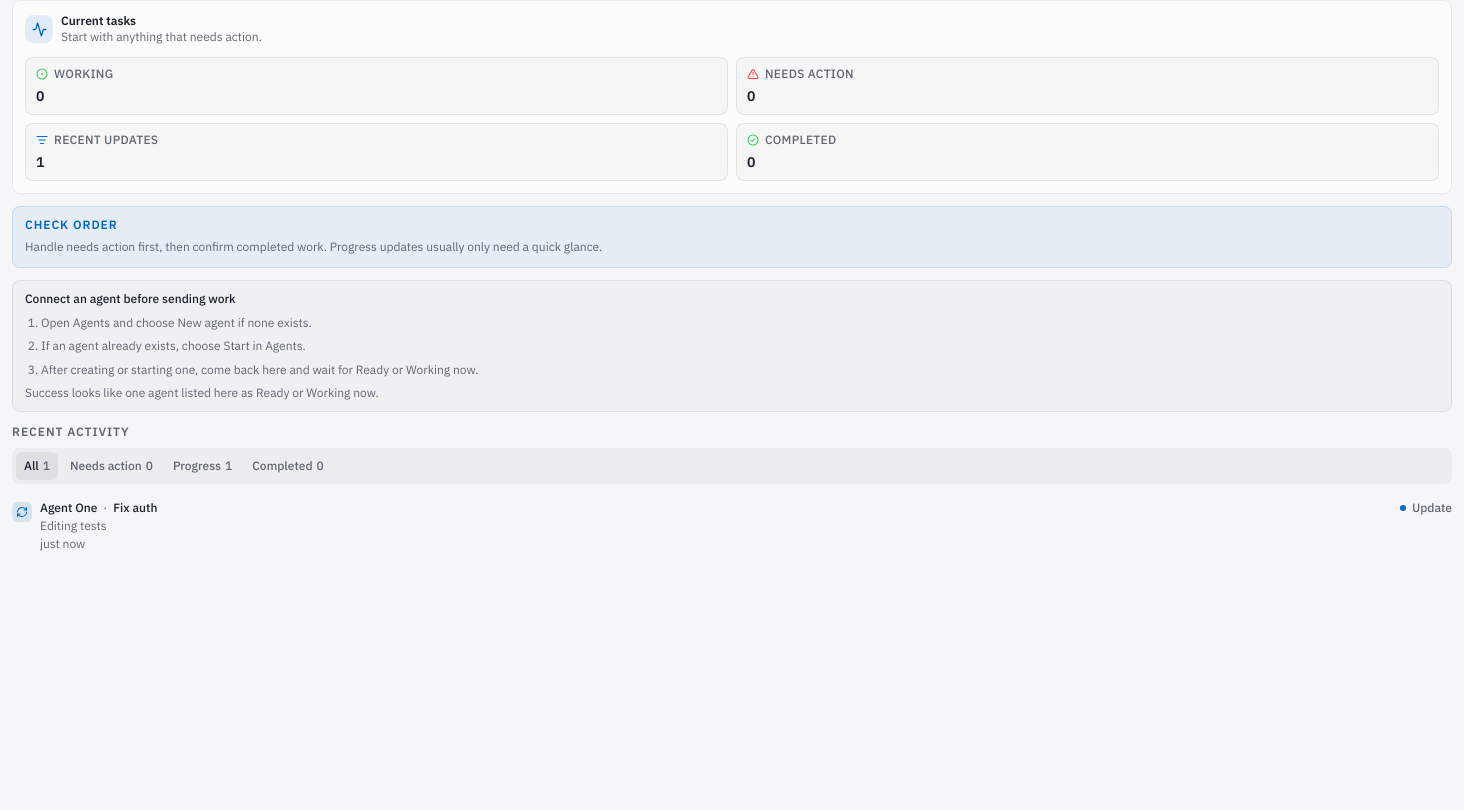
Test: ActivityFeed › shows action-first empty copy when needs-action updates are clear
This screenshot has width=1464, height=810.
Click the button named "show updates that need your help or stopped early, 0 matching updates" at (111, 466), box [62, 452, 161, 480]
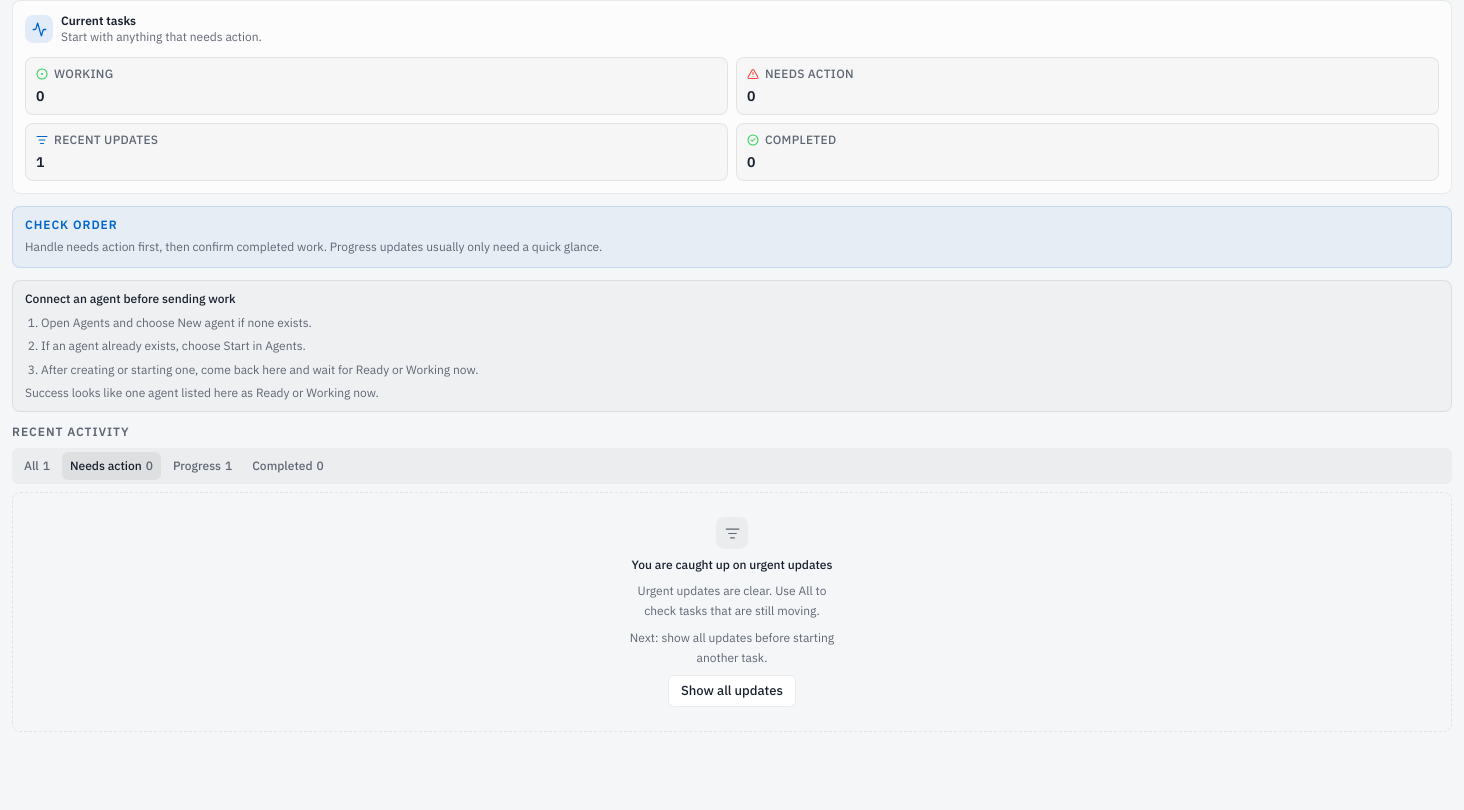
expect the text "You are caught up on urgent updates" is shown: met, box [632, 557, 832, 573]
expect the text "Use All to check tasks that are still moving" is shown: met, box [638, 583, 826, 618]
expect the text "Next: show all updates before starting another task." is shown: met, box [622, 628, 842, 667]
